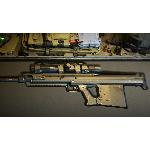Senapan: (0, 62, 150, 110)
